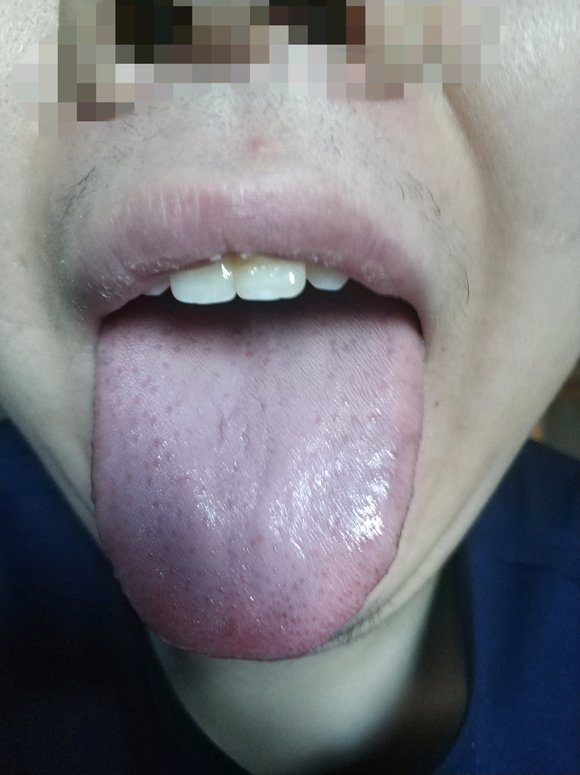baitaishe: (93, 296, 423, 659)
zishe: (93, 296, 423, 659)
